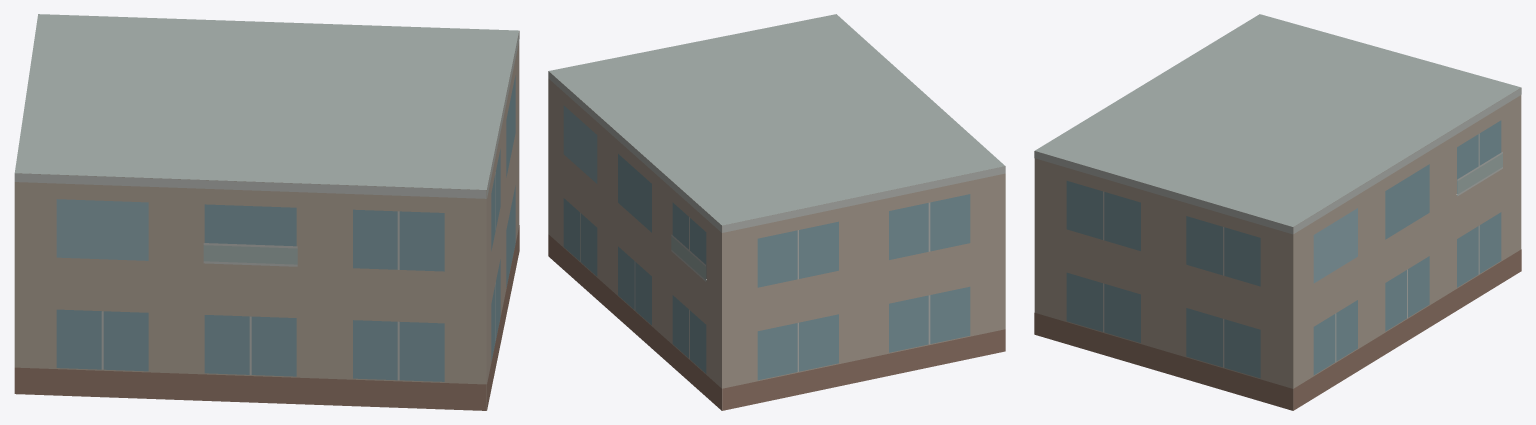
File: survey-upis-32714480.glb
The picture shows the model from 3 angles, left to right: view 1: azimuth 30°, elevation 25°; view 2: azimuth 150°, elevation 25°; view 3: azimuth 270°, elevation 25°; orthographic projection. The views are drawn at different scales.
Parts seen in each view (by area): view 1: survey-upis-32714480.tmp; view 2: survey-upis-32714480.tmp; view 3: survey-upis-32714480.tmp.
Part boxes in pixels (left/top/right/bottom): survey-upis-32714480.tmp: left=14, top=14, right=519, bottom=410; survey-upis-32714480.tmp: left=548, top=14, right=1005, bottom=410; survey-upis-32714480.tmp: left=1034, top=14, right=1521, bottom=410.
Size of the model in its own units: 15.18 by 6.1 by 14.66.
